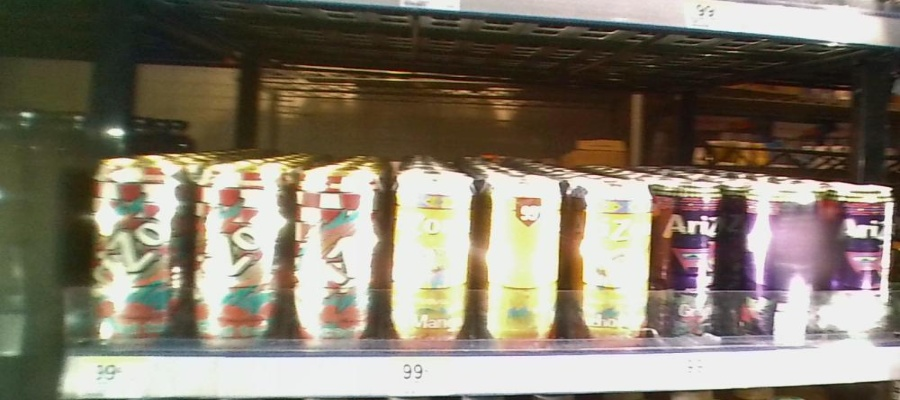bottle: (86, 151, 187, 353), (189, 152, 287, 352), (293, 156, 388, 356), (391, 159, 478, 347), (568, 164, 653, 350), (482, 161, 565, 346), (740, 178, 819, 347), (823, 179, 895, 350), (658, 168, 724, 348)
